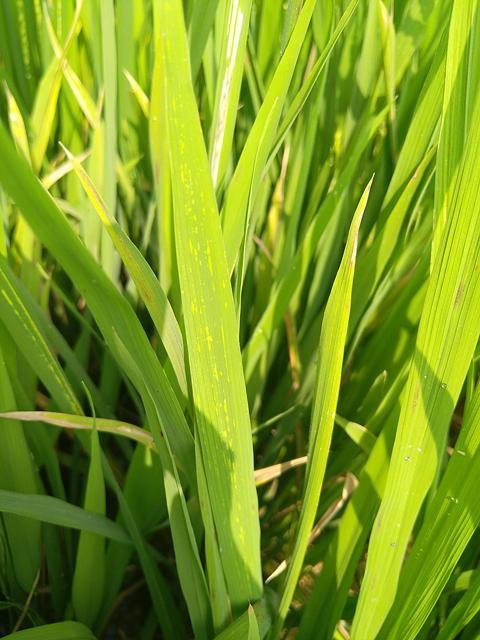Leaf Blight: (1, 411, 158, 452), (62, 58, 98, 128), (254, 457, 308, 484), (41, 0, 65, 58)
Leaf Streak: (153, 0, 261, 602), (209, 0, 243, 203)
